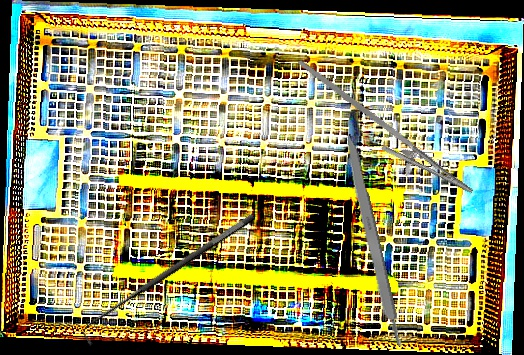Hook Surgical: (75, 211, 265, 347)
Needle Holder: (276, 58, 487, 209)
Scalpel Handle: (340, 132, 404, 349)
